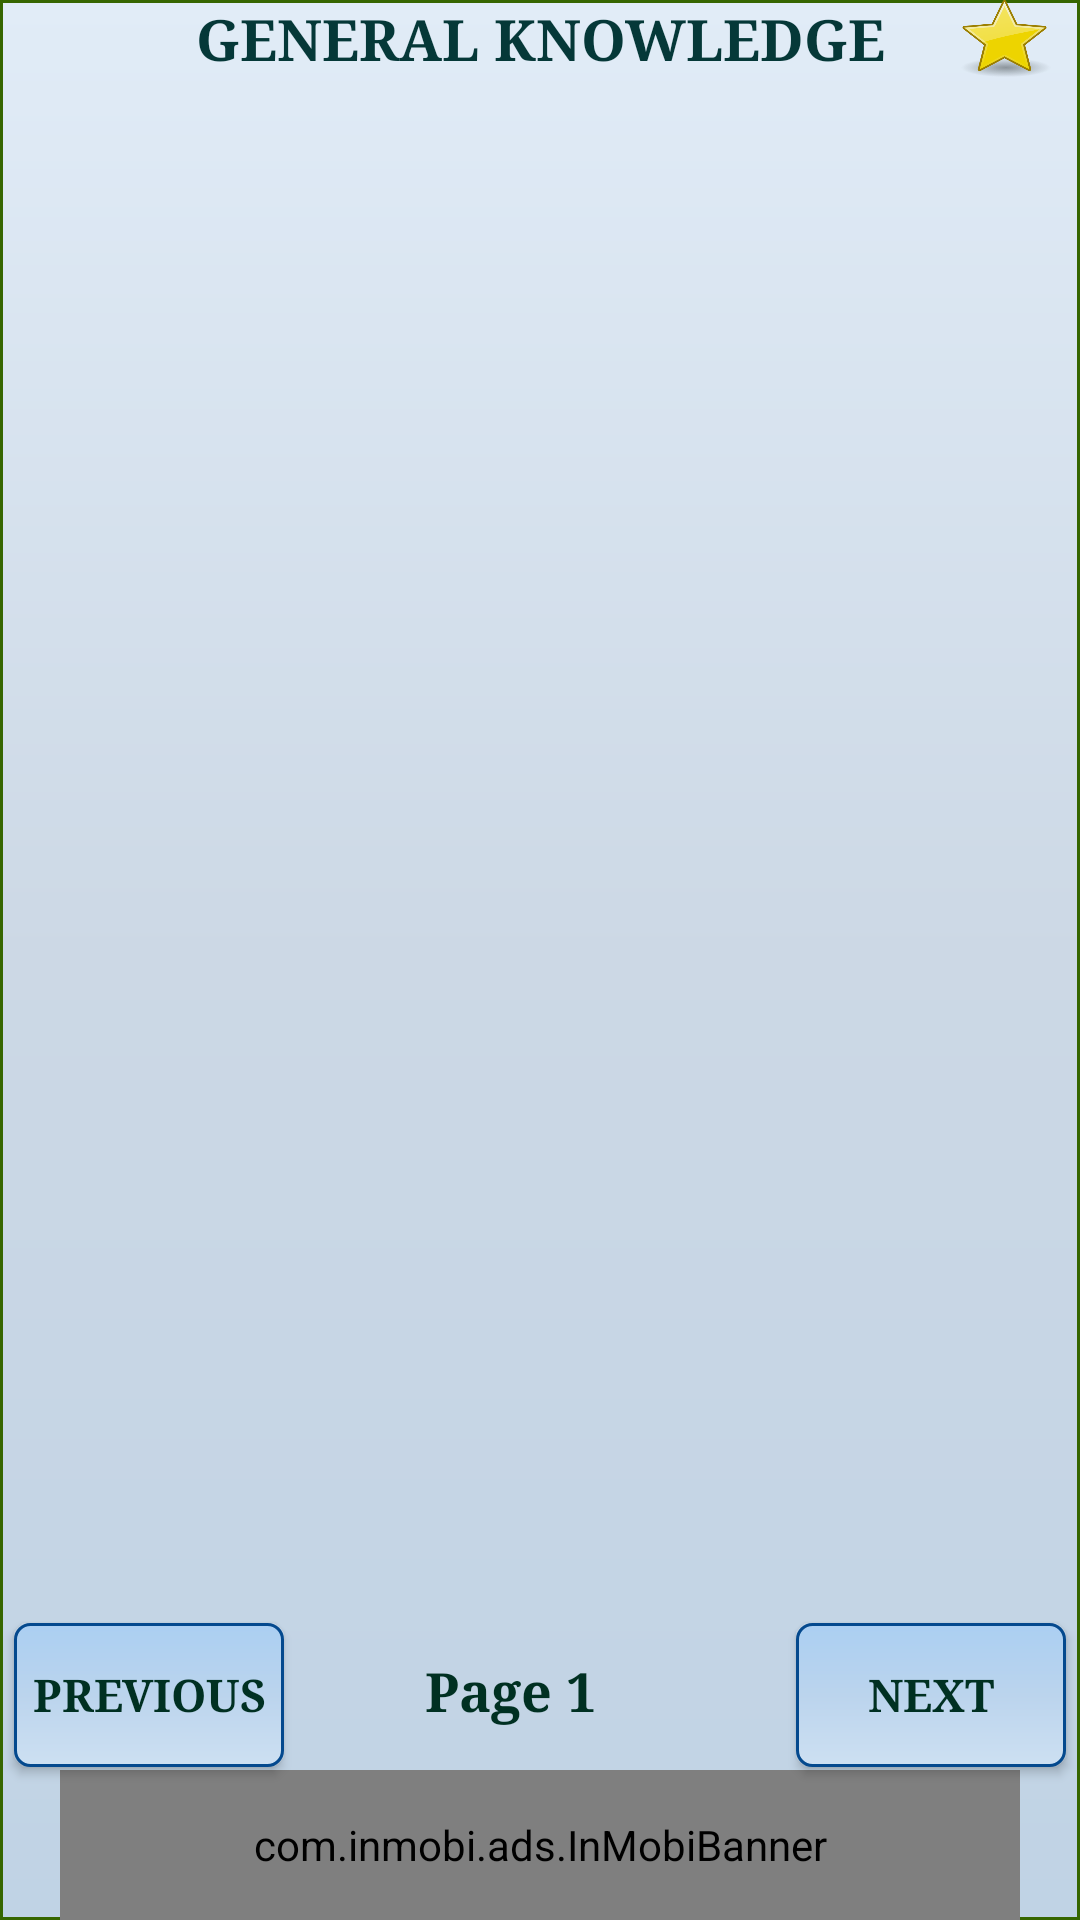

Icons on this 1080w x 1920h Android screen, each with its box as (x1,y1,x2,y2):
fav: (961,0,1051,75)
